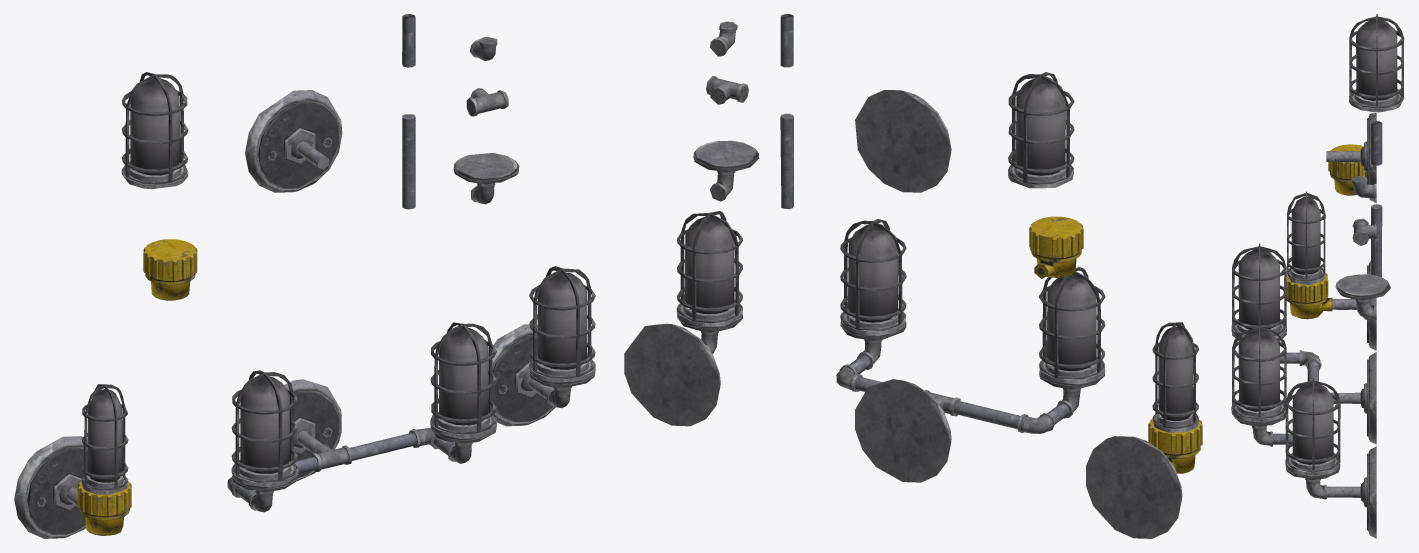
File: industrial_caged_sconce.glb
3 renders of one model, left to right at view 1: azimuth 30°, elevation 25°; view 2: azimuth 150°, elevation 25°; view 3: azimuth 270°, elevation 25°, orthographic. The views are drawn at different scales.
Visible parts, largest first — view 1: industrial_caged_sconce_b; view 2: industrial_caged_sconce_b; view 3: industrial_caged_sconce_b.
Boxes of the visible parts, x1=… form: industrial_caged_sconce_b: x1=14, y1=14, x2=595, y2=538; industrial_caged_sconce_b: x1=624, y1=14, x2=1202, y2=538; industrial_caged_sconce_b: x1=1231, y1=14, x2=1404, y2=538.
Size of the model in its own units: 1.21 by 0.9128 by 0.3894.
Materials: 1 (1 with a texture image).
